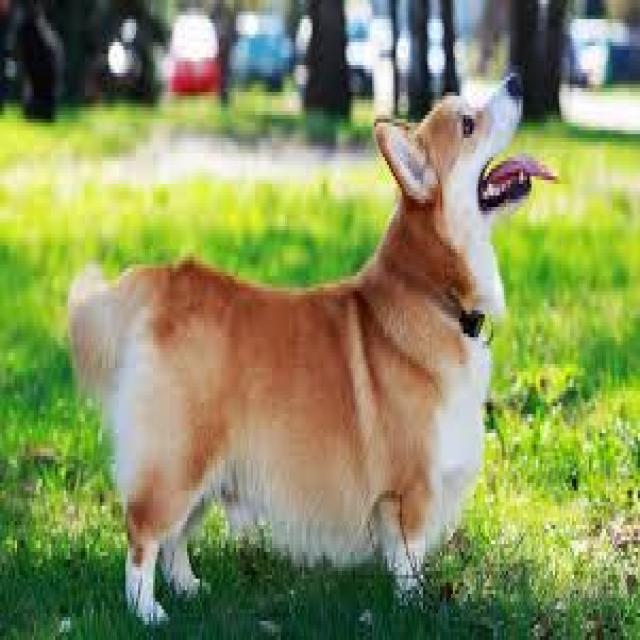CORGI: (46, 57, 534, 628)
